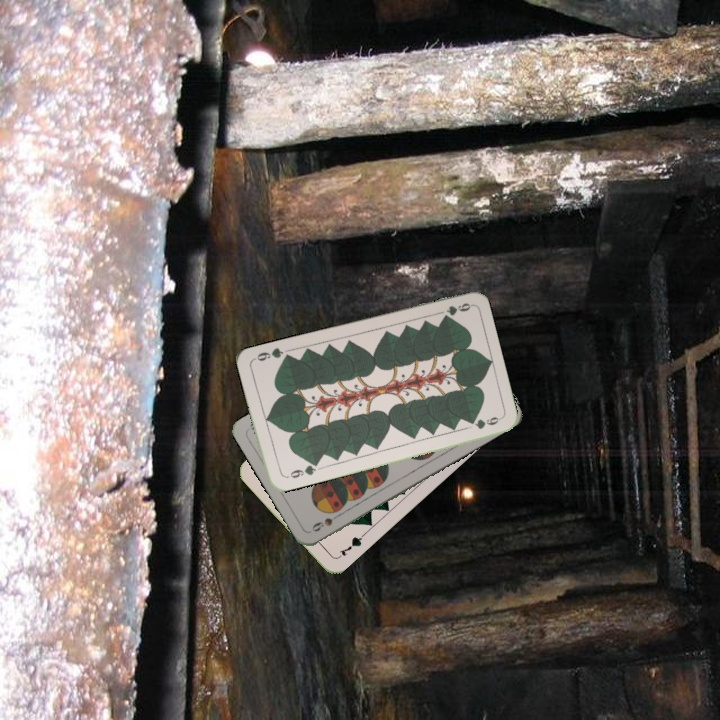G7: (333, 531, 366, 561)
G9: (280, 459, 321, 481), (439, 299, 473, 321)
S9: (308, 509, 345, 534)
